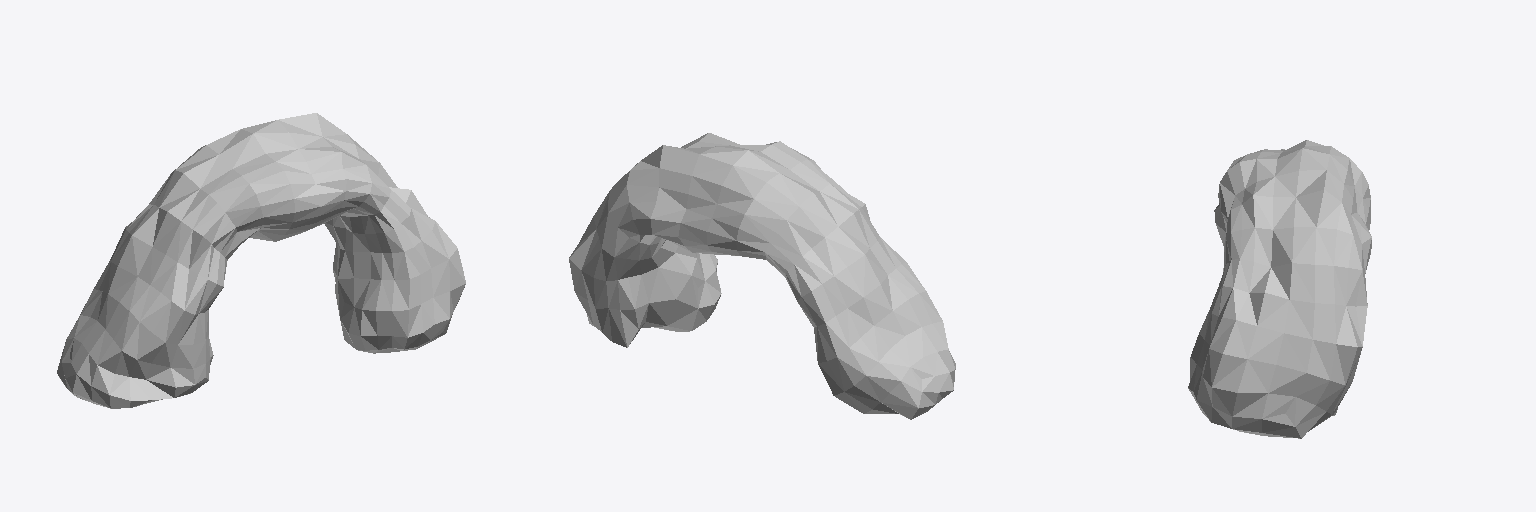
File: ASM - PBR Metallic Roughness.obj
The picture shows the model from 3 angles: view 1: azimuth 30°, elevation 25°; view 2: azimuth 150°, elevation 25°; view 3: azimuth 270°, elevation 25°; orthographic projection.
Visible parts, largest first — view 1: LowPoly_oPP; view 2: LowPoly_oPP; view 3: LowPoly_oPP.
Part boxes in pixels (x1,y1,x2,y2): LowPoly_oPP: (57, 113, 465, 408); LowPoly_oPP: (569, 133, 955, 419); LowPoly_oPP: (1188, 140, 1371, 438).
Bounding box in the file's own units: 10.46 × 6.06 × 4.52.